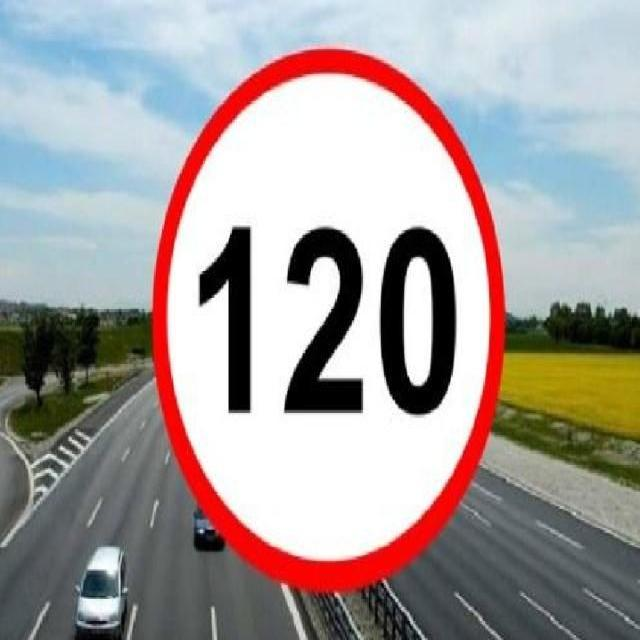speed limit 120: (150, 49, 505, 593)
